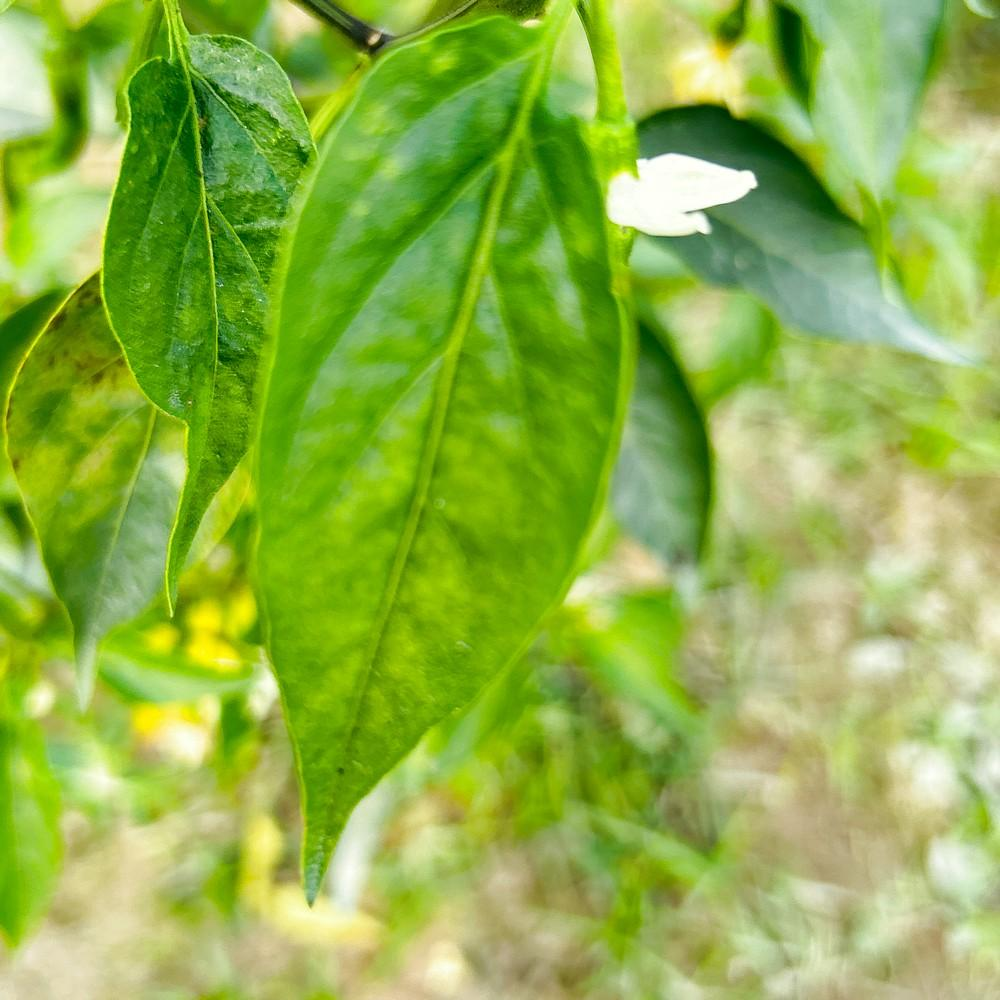Bercak Daun Serkospora: (2, 227, 256, 716)
Daun Cabai Sehat: (248, 2, 636, 906), (99, 1, 318, 618)
